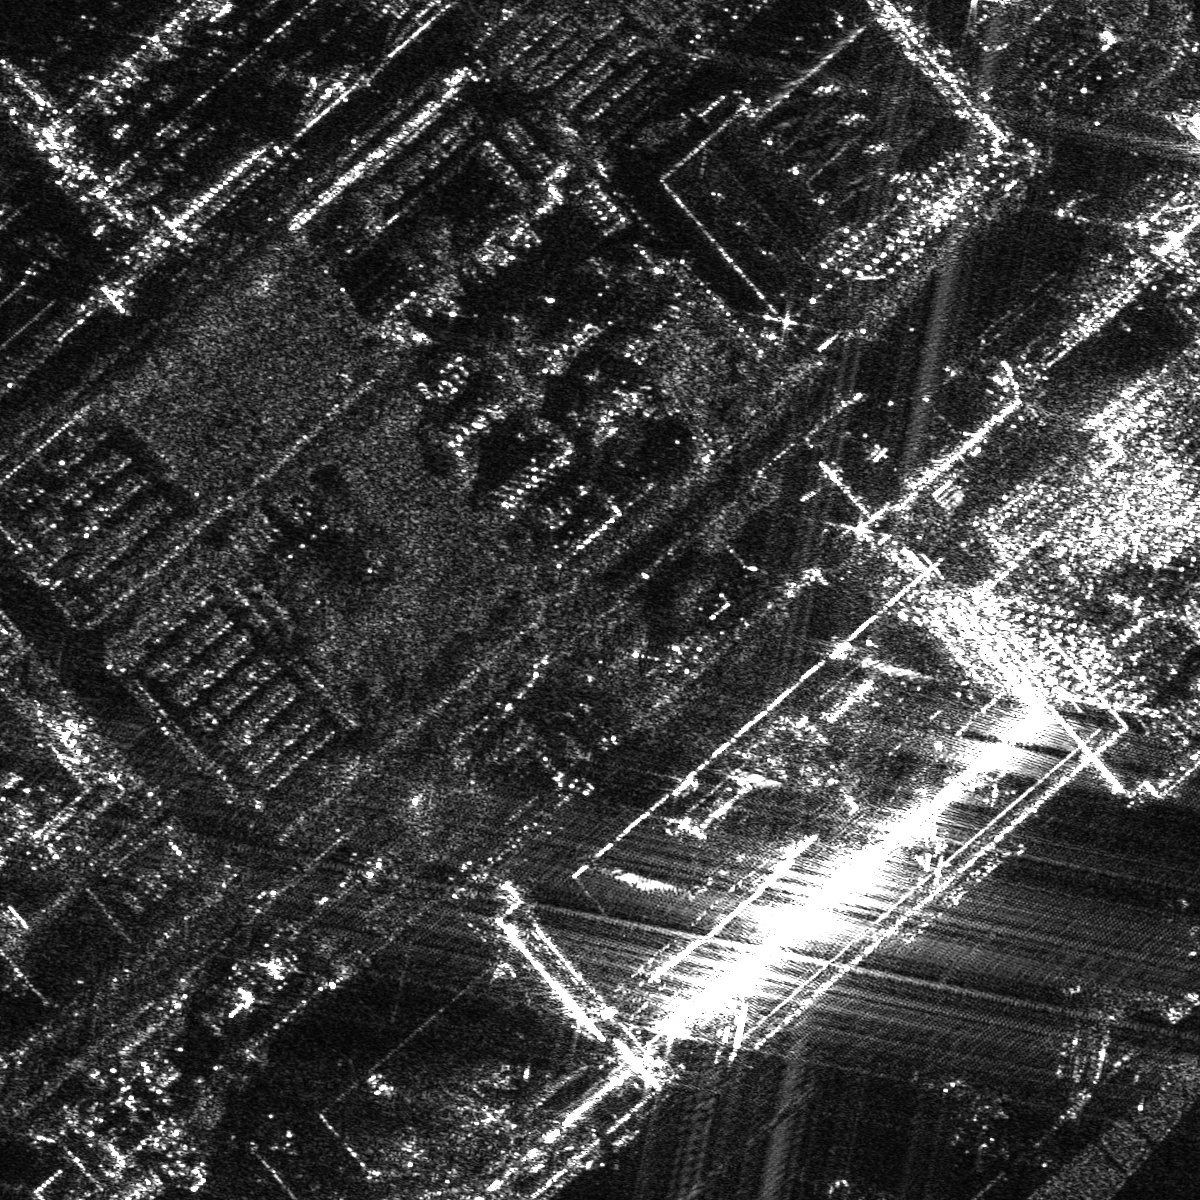Boeing737: (1159, 891, 1199, 964)
other: (932, 1073, 1024, 1165)
